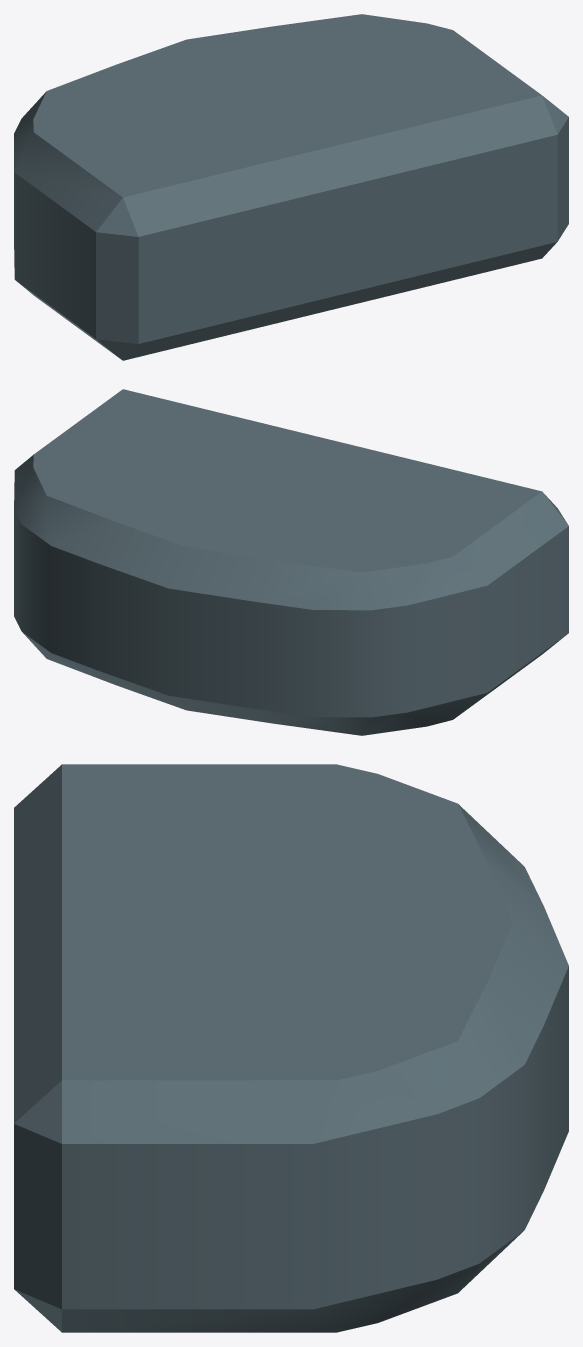
File: stage.gltf
3 renders of one model, top to bottom at view 1: azimuth 30°, elevation 25°; view 2: azimuth 150°, elevation 25°; view 3: azimuth 270°, elevation 25°, orthographic. The views are drawn at different scales.
Parts seen in each view (by area): view 1: Stage_convex_collider; view 2: Stage_convex_collider; view 3: Stage_convex_collider.
Boxes of the visible parts, x1,y1,x2,y2 form: Stage_convex_collider: (14, 14, 568, 360); Stage_convex_collider: (14, 389, 568, 735); Stage_convex_collider: (14, 764, 568, 1332).
Bounding box in the file's own units: 3.7 × 1.22 × 2.43.
